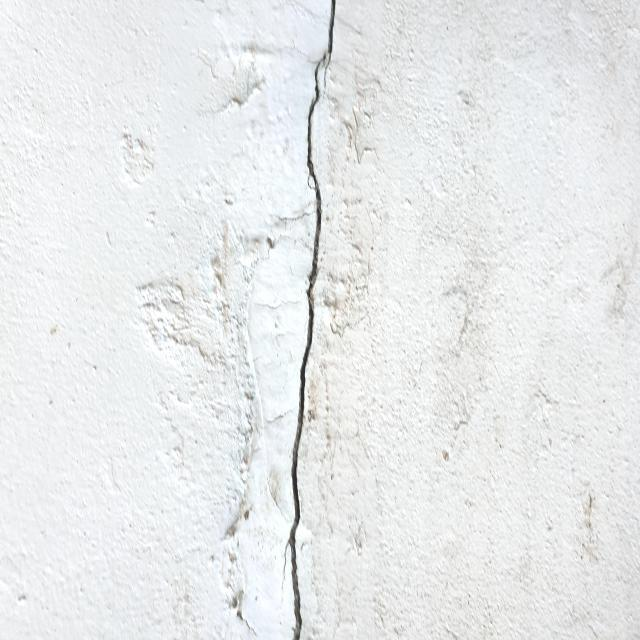SurfaceCrack: (226, 1, 384, 640)
